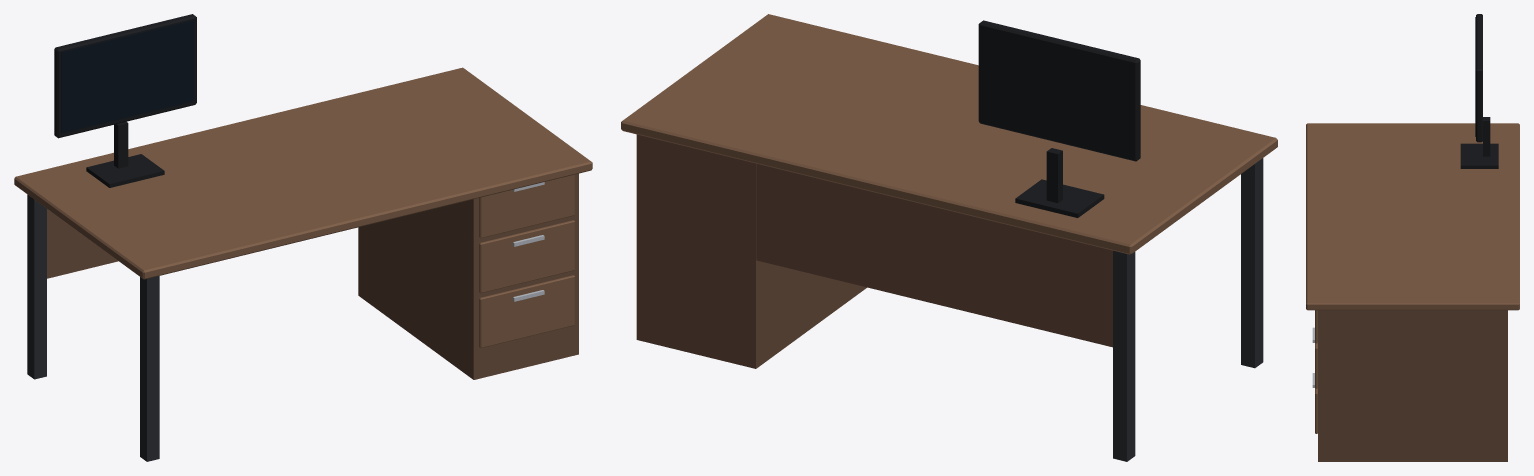
The model's file is desk_b.glb.
The picture shows the model from 3 angles, left to right: view 1: azimuth 30°, elevation 25°; view 2: azimuth 150°, elevation 25°; view 3: azimuth 270°, elevation 25°; orthographic projection. The views are drawn at different scales.
Parts seen in each view (by area): view 1: desk_b; view 2: desk_b; view 3: desk_b.
Boxes of the visible parts, left/top/right/bottom form: desk_b: left=14, top=14, right=592, bottom=461; desk_b: left=621, top=14, right=1277, bottom=461; desk_b: left=1306, top=14, right=1519, bottom=461.
Size of the model in its own units: 1.8 by 1.29 by 0.9.
